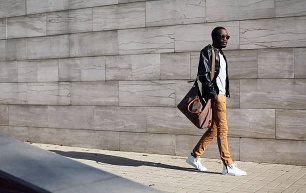male: (206, 23, 236, 55)
